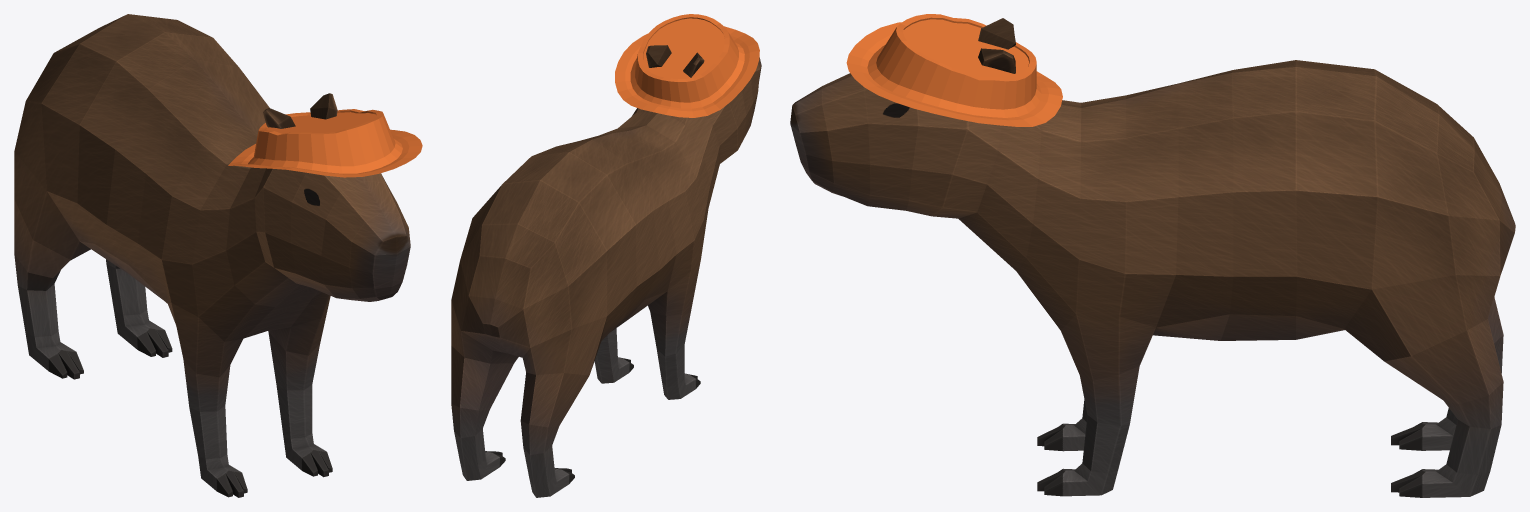
File: farmerbara.glb
The picture shows the model from 3 angles, left to right: view 1: azimuth 30°, elevation 25°; view 2: azimuth 150°, elevation 25°; view 3: azimuth 270°, elevation 25°; orthographic projection. The views are drawn at different scales.
Visible parts, largest first — view 1: Capybara_mesh, Hat; view 2: Capybara_mesh, Hat; view 3: Capybara_mesh, Hat.
Part boxes in pixels (box(x1,y1,x2,y2)): Capybara_mesh: box(14, 14, 410, 497); Hat: box(228, 109, 422, 177); Capybara_mesh: box(451, 45, 761, 497); Hat: box(615, 14, 759, 117); Capybara_mesh: box(790, 18, 1515, 497); Hat: box(846, 14, 1062, 126).
Bounding box in the file's own units: 2.16 × 4.8 × 7.16.
2 materials, 1 textured.
